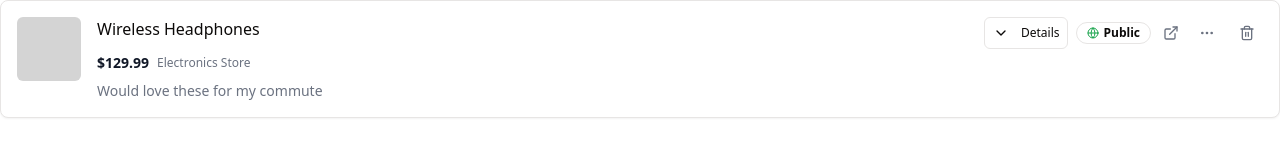
Test: WishlistItem Component › should render copy product link action in overflow menu
Click the button with test id "wishlist-item-more-1": {"x": 1207, "y": 33} [1191,17,1223,49]
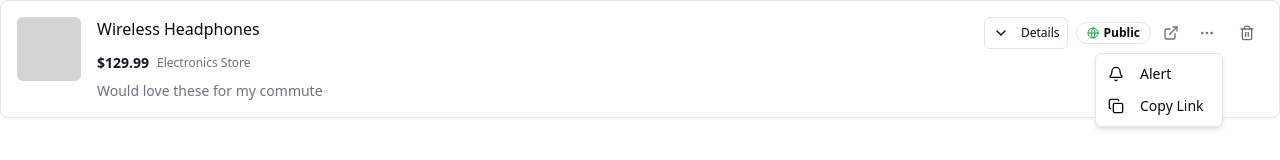
Expected: the menu item with test id "wishlist-item-copy-link-1" is shown, [1108,96,1204,115]
